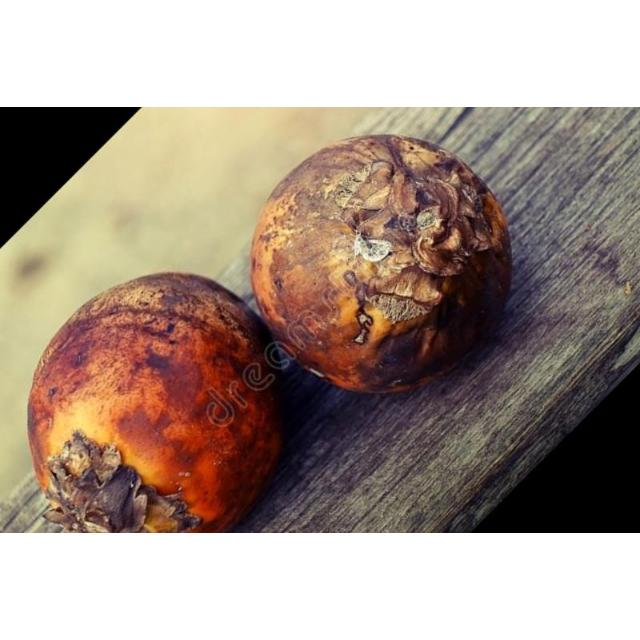damaged: (247, 137, 513, 395), (26, 273, 287, 533)
